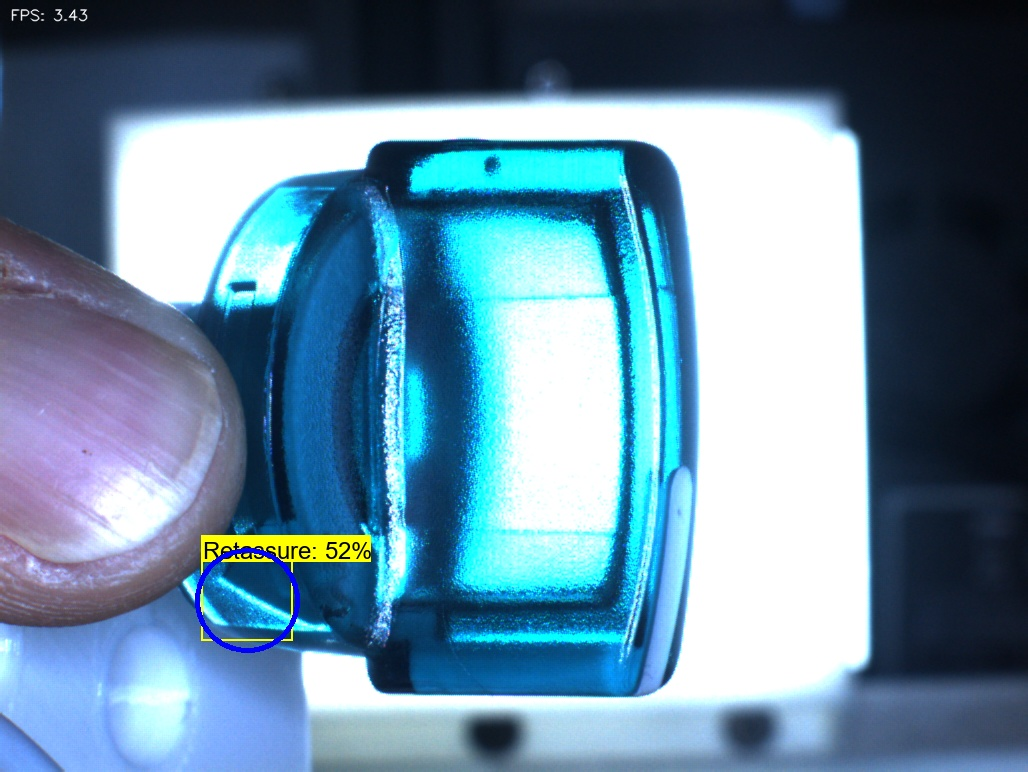Bulle: (450, 125, 531, 204)
